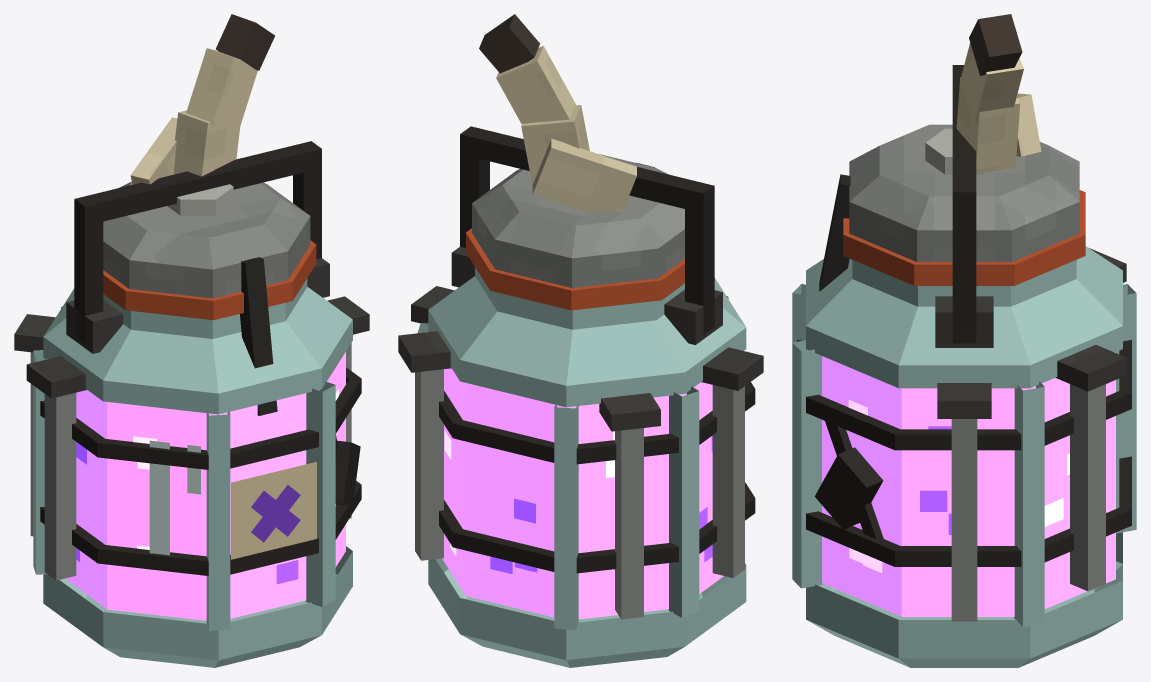
File: pk_nade.glb
The picture shows the model from 3 angles, left to right: view 1: azimuth 30°, elevation 25°; view 2: azimuth 150°, elevation 25°; view 3: azimuth 270°, elevation 25°; orthographic projection. The views are drawn at different scales.
Parts seen in each view (by area): view 1: pk_nade; view 2: pk_nade; view 3: pk_nade.
Boxes of the visible parts, x1=… form: pk_nade: x1=14, y1=14, x2=369, y2=667; pk_nade: x1=398, y1=14, x2=763, y2=667; pk_nade: x1=792, y1=14, x2=1136, y2=667.
Bounding box in the file's own units: 0.1766 × 0.303 × 0.1504.
Materials: 15 (3 with a texture image).
